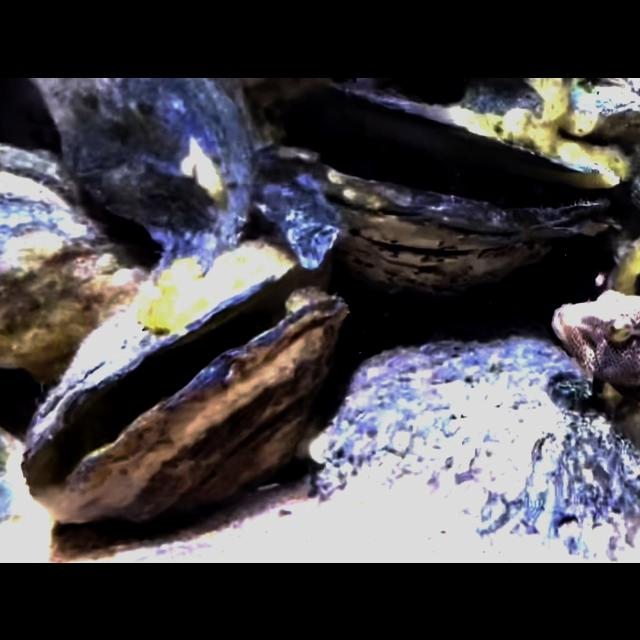Oyster-Closed: (29, 77, 253, 243), (0, 167, 146, 386)
Oyster-Open: (16, 236, 350, 530), (244, 77, 620, 297)
